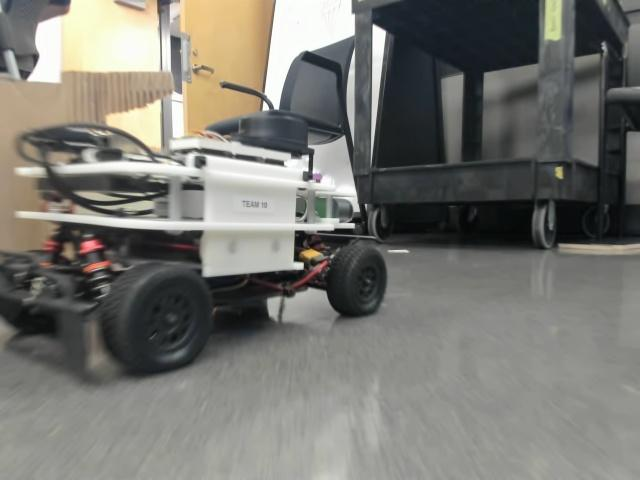Car: (1, 112, 387, 369)
